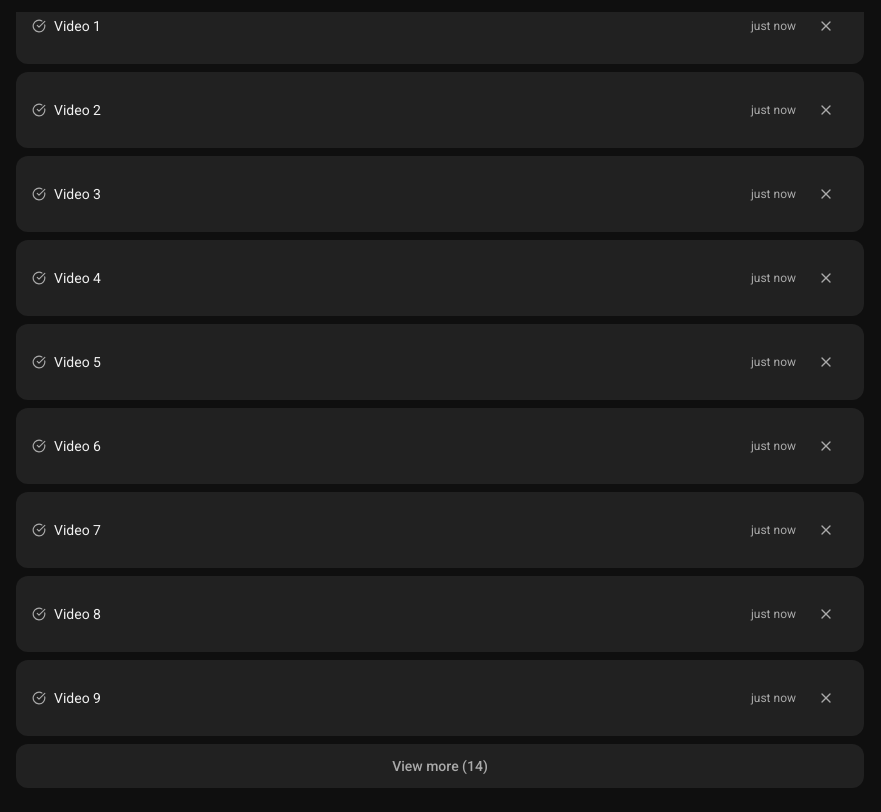
Test: ActivityPage › shows ten downloads and reveals the rest on request
(page scrolled)
Expected: the text "Video 10" is not shown
Click the button "View more (14)": point(440, 766) [16,744,864,788]
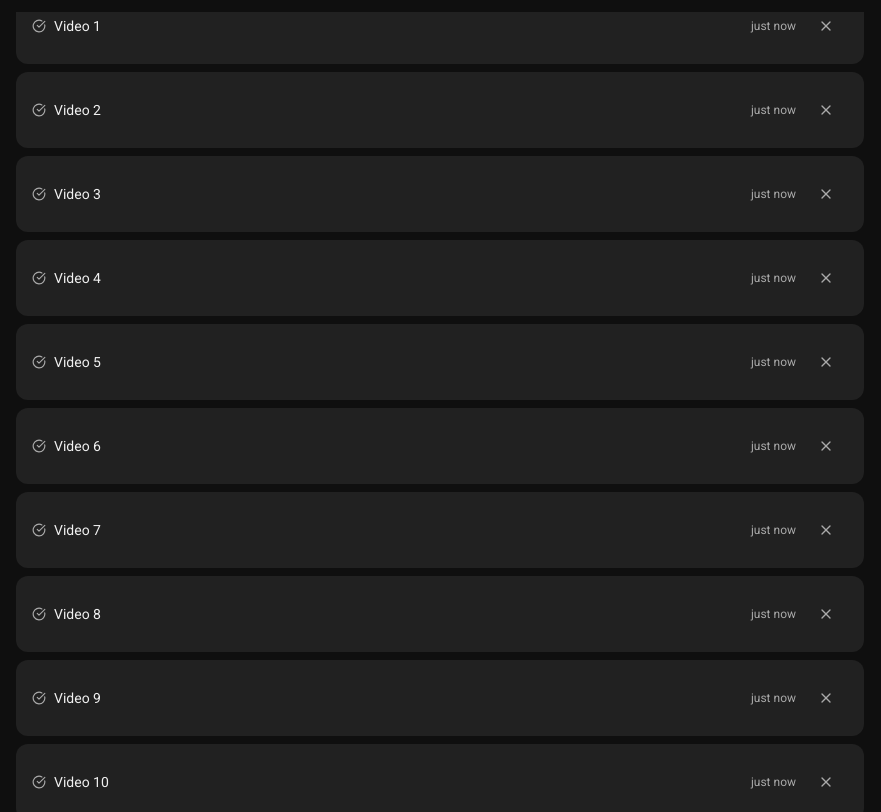
Now the text "Video 10" is shown, box [54,772,109,792]
